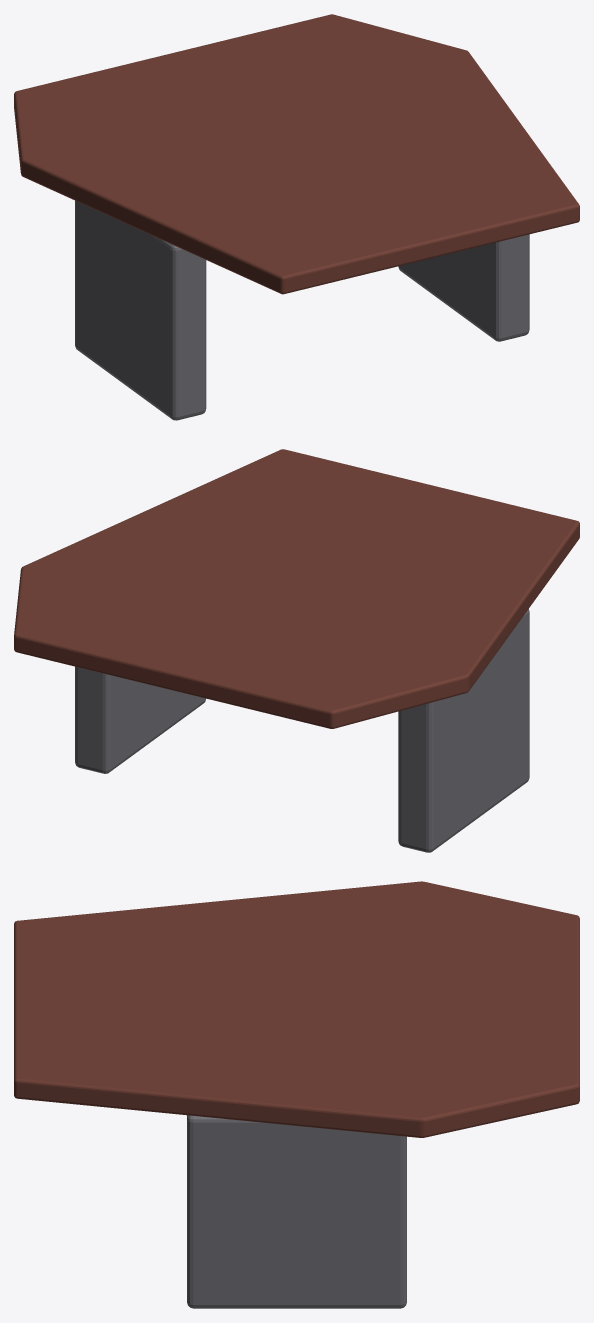
Rendered from table_coffin_lid.glb.
The picture shows the model from 3 angles, top to bottom: view 1: azimuth 30°, elevation 25°; view 2: azimuth 150°, elevation 25°; view 3: azimuth 270°, elevation 25°; orthographic projection. The views are drawn at different scales.
Visible parts, largest first — view 1: GD_table_coffin_lid__m0, GD_table_coffin_lid__m1; view 2: GD_table_coffin_lid__m0, GD_table_coffin_lid__m1; view 3: GD_table_coffin_lid__m0, GD_table_coffin_lid__m1.
Boxes of the visible parts, <box> form: GD_table_coffin_lid__m0: <box>14,14,579,294</box>; GD_table_coffin_lid__m1: <box>75,200,529,420</box>; GD_table_coffin_lid__m0: <box>14,449,579,728</box>; GD_table_coffin_lid__m1: <box>75,609,529,852</box>; GD_table_coffin_lid__m0: <box>14,881,579,1137</box>; GD_table_coffin_lid__m1: <box>187,1115,406,1308</box>.
Size of the model in its own units: 1.8 by 0.755 by 1.8.
